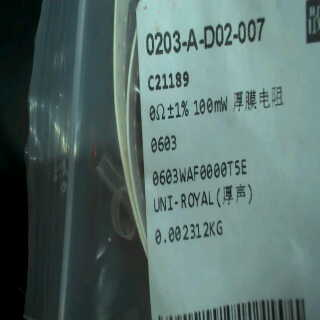0R: (145, 91, 229, 156)
